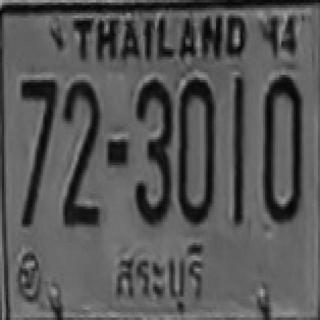N00: (261, 74, 302, 220), (177, 76, 214, 221)
N01: (232, 76, 245, 200), (232, 76, 245, 195)
N02: (61, 79, 98, 205), (61, 106, 98, 225)
N03: (133, 78, 172, 222)
N07: (18, 77, 55, 186), (18, 78, 55, 173), (18, 77, 55, 163)
P60: (107, 234, 214, 316)
